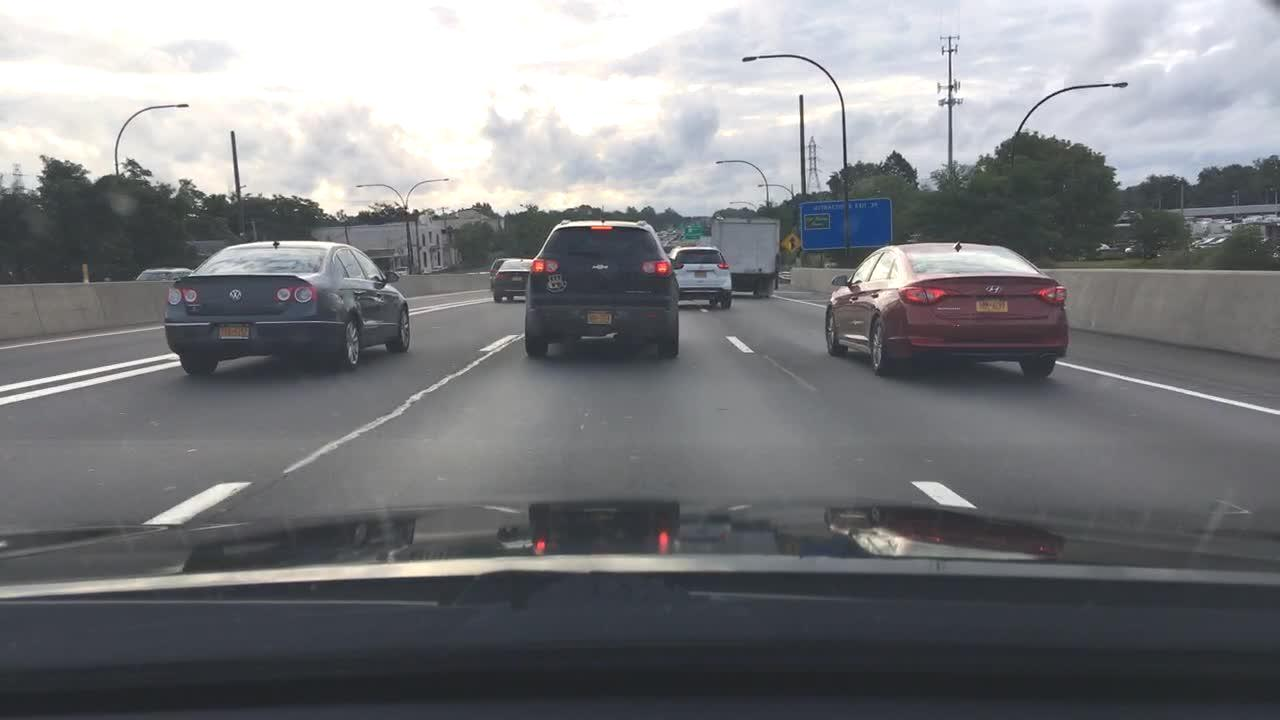Hyundai: (981, 283, 1007, 295)
Volkswagen: (222, 286, 253, 307)
chevrolet: (587, 260, 615, 273)
